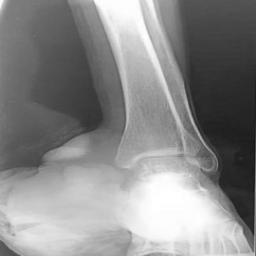cancer: (3, 162, 131, 254)
